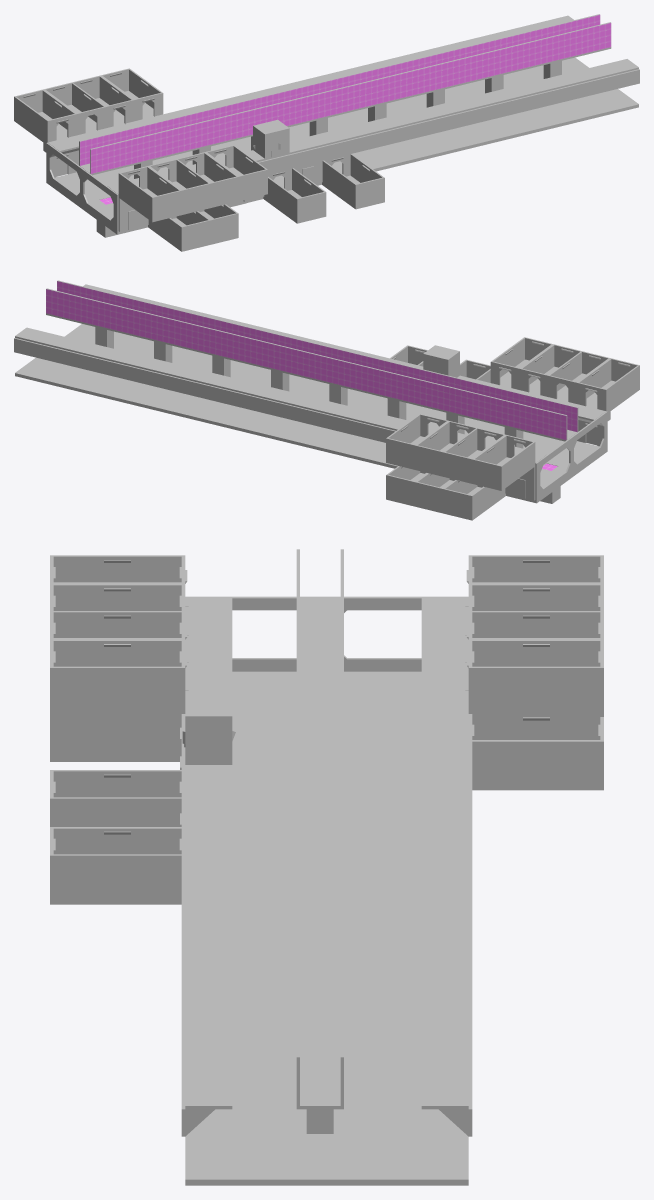
3 renders of one model, top to bottom at view 1: azimuth 30°, elevation 25°; view 2: azimuth 150°, elevation 25°; view 3: azimuth 270°, elevation 25°, orthographic. The views are drawn at different scales.
Parts seen in each view (by area): view 1: WallMaterial Mesh (1), FlorMaterial Mesh (1), Prototype_512x512_Volume Mesh (1), WindowsMaterial Mesh (1), YellowEmission Mesh (1); view 2: WallMaterial Mesh (1), FlorMaterial Mesh (1), Prototype_512x512_Volume Mesh (1), WindowsMaterial Mesh (1), YellowEmission Mesh (1); view 3: FlorMaterial Mesh (1), WallMaterial Mesh (1).
Boxes of the visible parts, bbox=[...] form: WallMaterial Mesh (1): bbox=[14, 14, 639, 251]; FlorMaterial Mesh (1): bbox=[38, 15, 638, 226]; Prototype_512x512_Volume Mesh (1): bbox=[80, 15, 611, 204]; WindowsMaterial Mesh (1): bbox=[56, 159, 314, 229]; YellowEmission Mesh (1): bbox=[24, 73, 369, 213]; WallMaterial Mesh (1): bbox=[14, 280, 639, 520]; FlorMaterial Mesh (1): bbox=[15, 284, 615, 494]; Prototype_512x512_Volume Mesh (1): bbox=[46, 281, 577, 470]; WindowsMaterial Mesh (1): bbox=[513, 428, 597, 498]; YellowEmission Mesh (1): bbox=[394, 342, 629, 482]; FlorMaterial Mesh (1): bbox=[185, 598, 468, 1179]; WallMaterial Mesh (1): bbox=[50, 549, 603, 1185].
Size of the model in its own units: 89.25 by 15.25 by 41.
